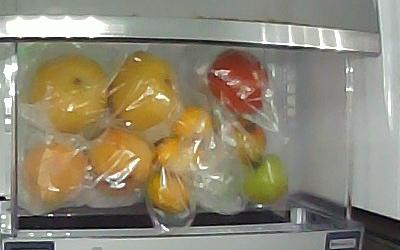peach_vinyl: (87, 129, 153, 195), (22, 138, 85, 203)
pear_vinyl: (29, 53, 111, 134), (110, 51, 174, 132)
tangerine_vinyl: (150, 169, 192, 214), (156, 139, 206, 172), (174, 106, 213, 144)
tomato_vinyl: (208, 49, 271, 118), (236, 155, 290, 205), (228, 120, 268, 164)
